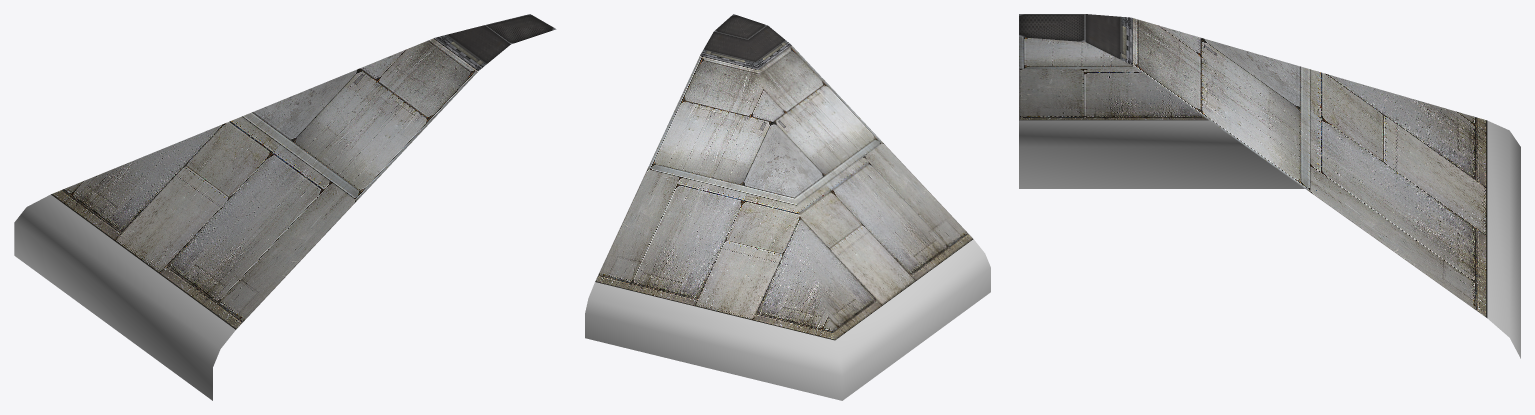
File: Roof_A_Big4mts02.fbx
3 views of the same model, side by side, from view 1: azimuth 30°, elevation 25°; view 2: azimuth 150°, elevation 25°; view 3: azimuth 270°, elevation 25° (orthographic). The views are drawn at different scales.
Parts seen in each view (by area): view 1: Roof_A_Big4mts02; view 2: Roof_A_Big4mts02; view 3: Roof_A_Big4mts02.
Boxes of the visible parts, x1,y1,x2,y2 form: Roof_A_Big4mts02: (14, 14, 556, 400); Roof_A_Big4mts02: (585, 14, 990, 400); Roof_A_Big4mts02: (1019, 14, 1520, 358).
Size of the model in its own units: 500 by 400 by 500.
